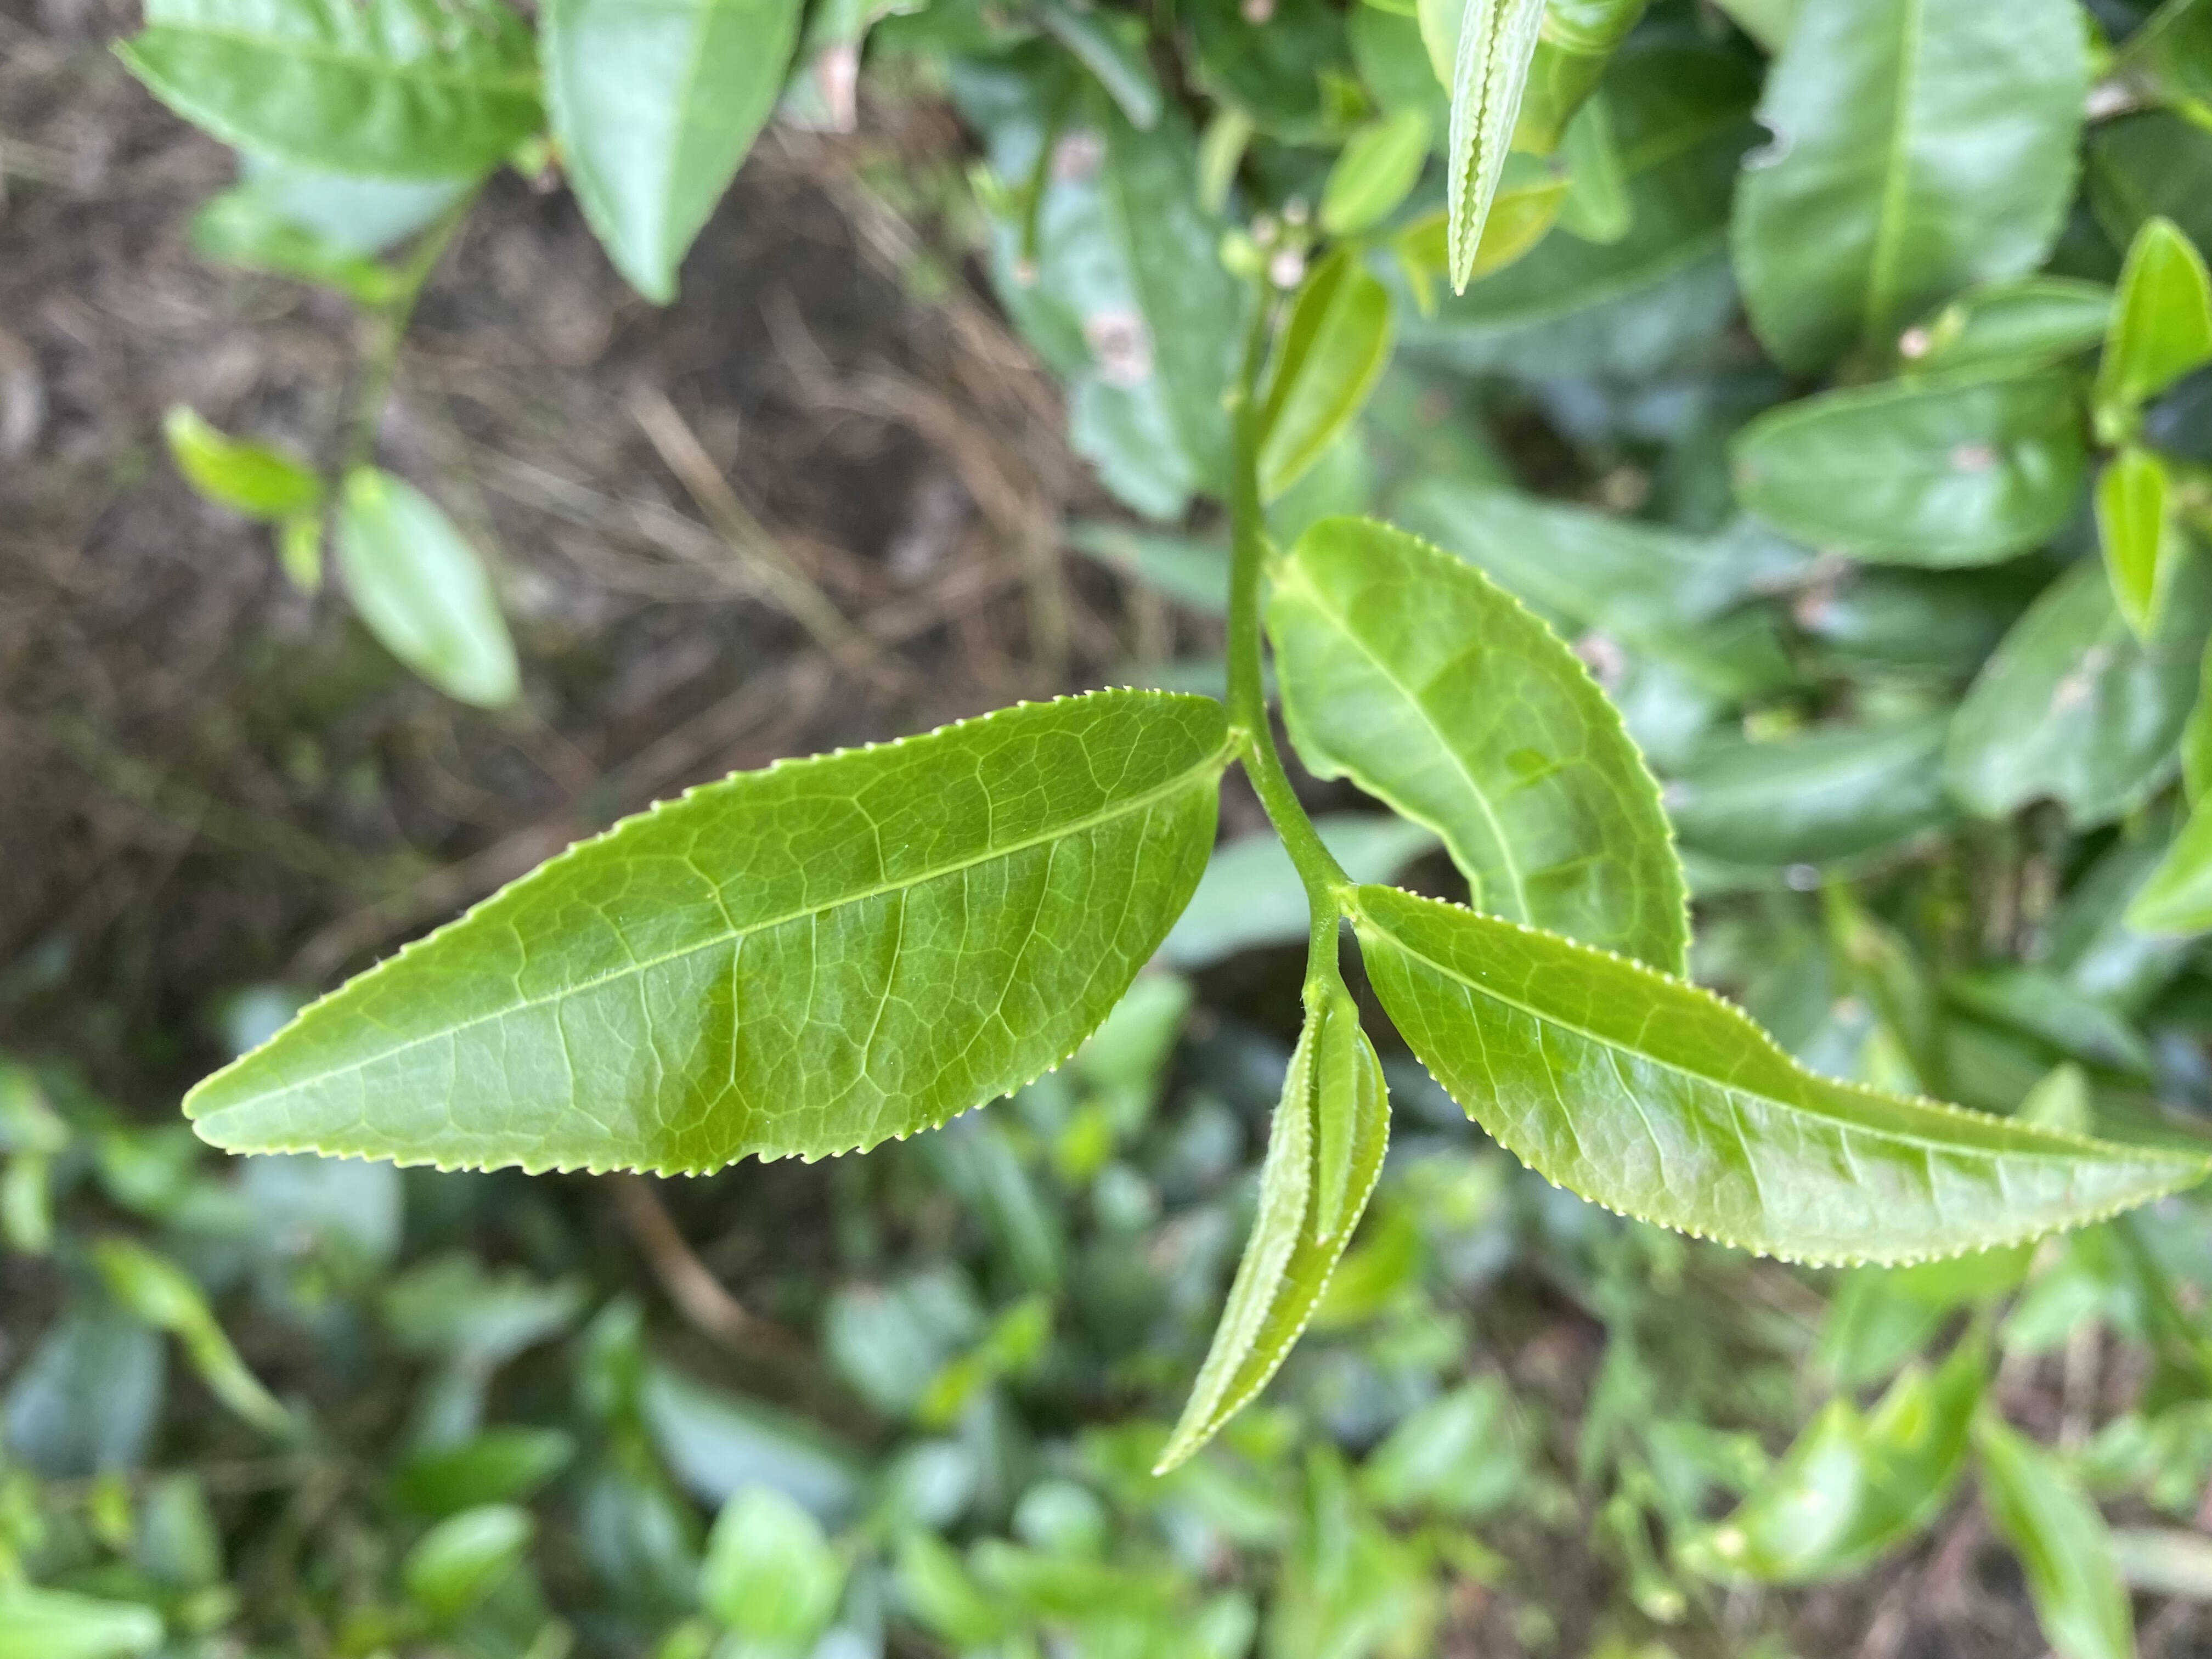healthy: (185, 683, 1233, 1187), (1353, 878, 2209, 1270), (1270, 511, 1696, 974)
